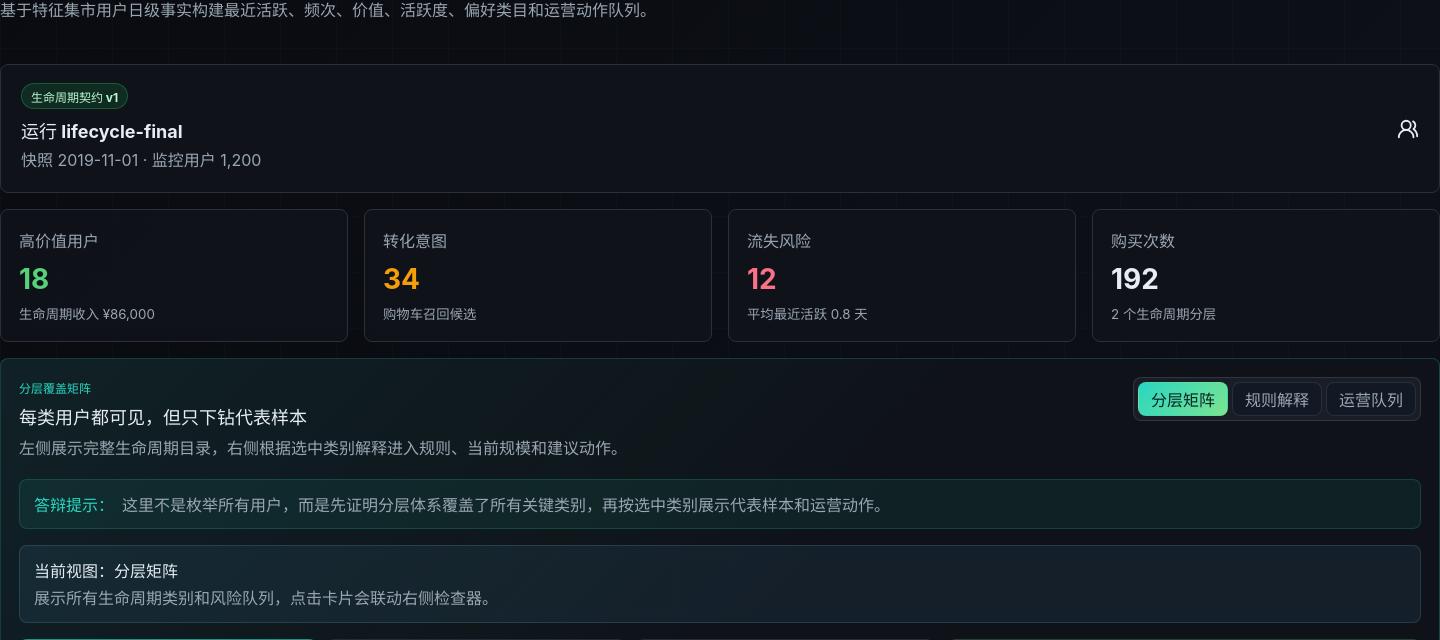
Test case: LifecyclePage › explains when a populated segment is missing from the preview queue
Click the button "运营队列".
click(1371, 399)  # box left=1326, top=382, right=1416, bottom=416
(page scrolled)
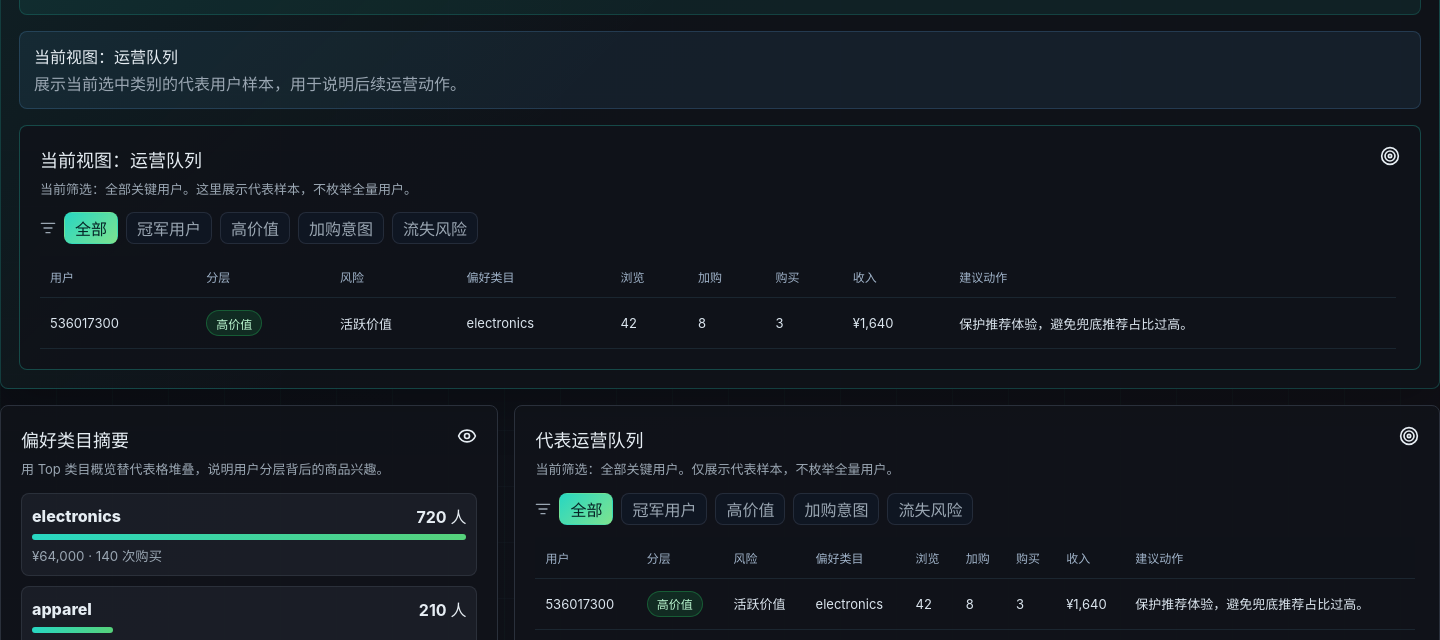
Click the button "加购意图" below "。仅展示代表样本，不枚举全量用户。".
click(836, 508)  # box left=793, top=492, right=879, bottom=524
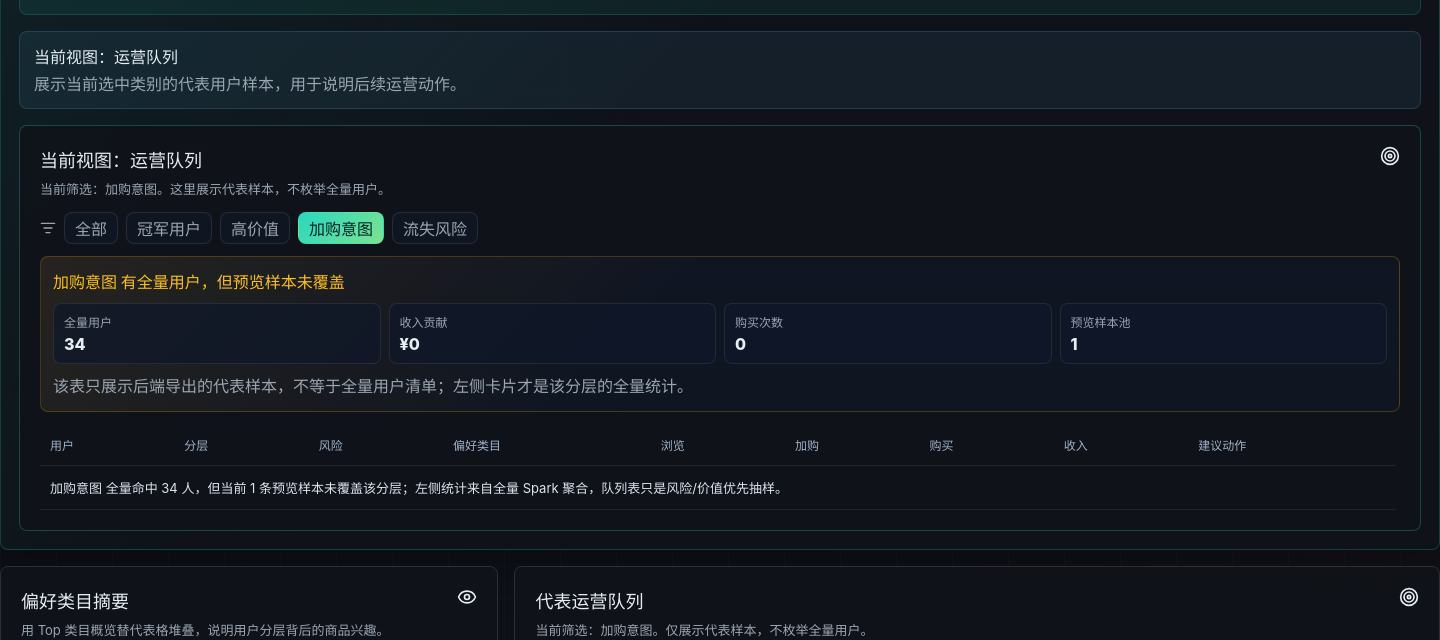
Now the text "加购意图 有全量用户，但预览样本未覆盖" is shown, box left=53, top=272, right=345, bottom=292
Now the text "加购意图 全量命中 34 人" is shown, box left=50, top=480, right=788, bottom=496
